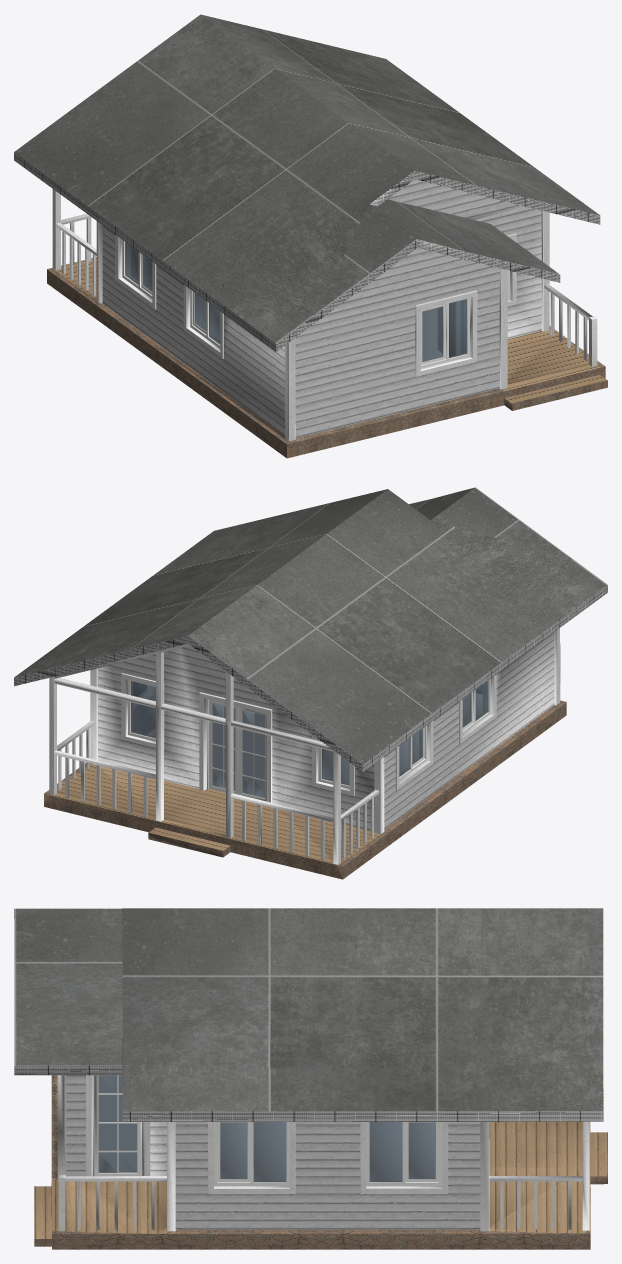
The model's file is house_2.glb.
3 views of the same model, one above another, from view 1: azimuth 30°, elevation 25°; view 2: azimuth 150°, elevation 25°; view 3: azimuth 270°, elevation 25° (orthographic). The views are drawn at different scales.
Parts seen in each view (by area): view 1: house_2; view 2: house_2; view 3: house_2.
Boxes of the visible parts, x1,y1,x2,y2 form: house_2: (14,14,607,458); house_2: (14,487,607,879); house_2: (14,908,607,1249).
Size of the model in its own units: 8.28 by 4.79 by 10.16.
Materials: 9 (7 with a texture image).
